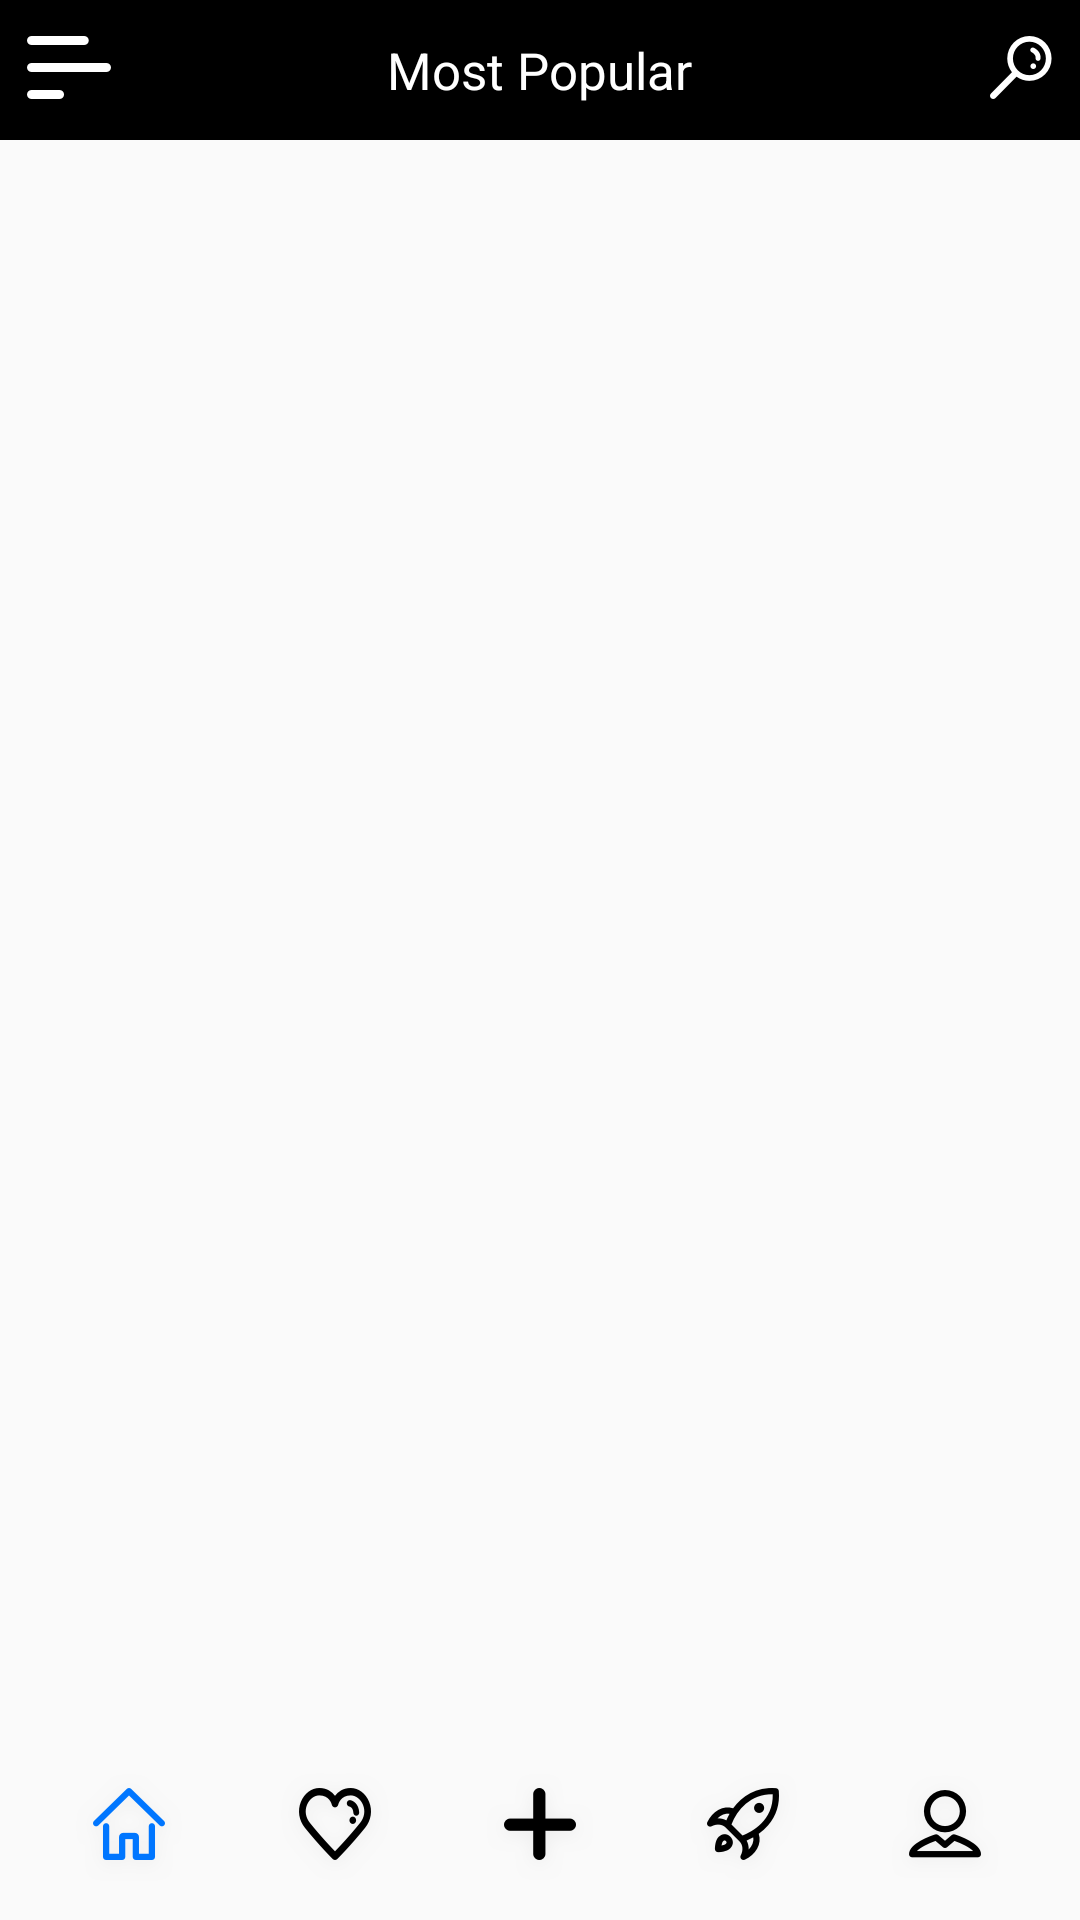

Locate icon controls on the screen. Image size 1080×1920, boxes as region(x1, y1, x2, y2).
hamburger menu: region(27, 36, 111, 99)
heart: region(299, 1788, 371, 1860)
home: region(93, 1788, 165, 1860)
plus: region(504, 1788, 576, 1860)
rocket: region(707, 1788, 779, 1860)
search: region(990, 36, 1052, 99)
user: region(909, 1790, 981, 1858)
